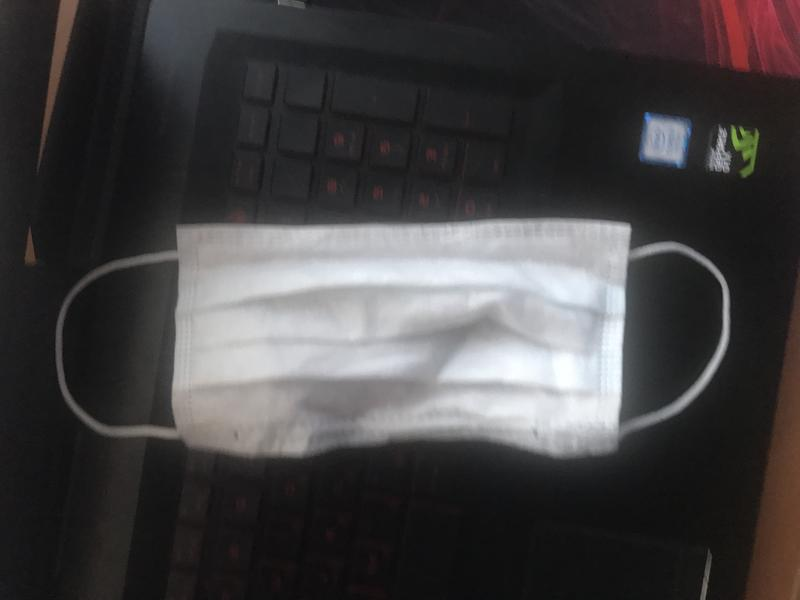medical_mask: (54, 219, 730, 467)
